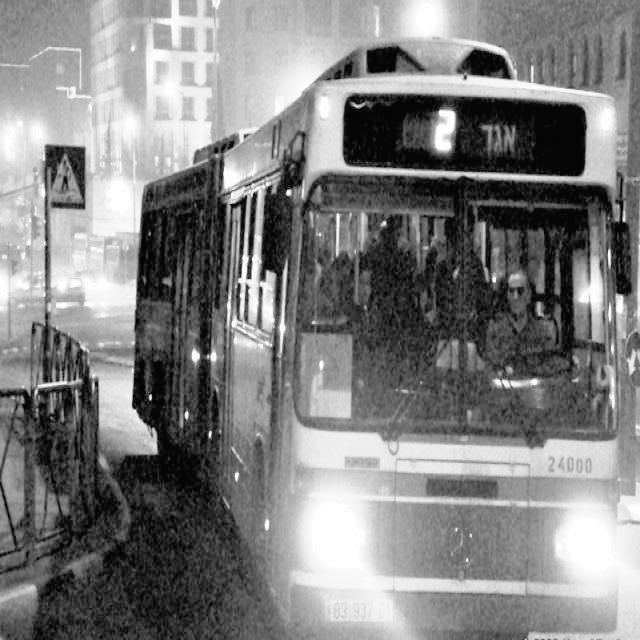Bus: (107, 24, 630, 640)
